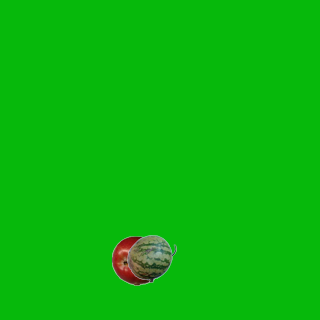Apple Braeburn: (111, 235, 161, 285)
Watermelon: (126, 233, 176, 283)
